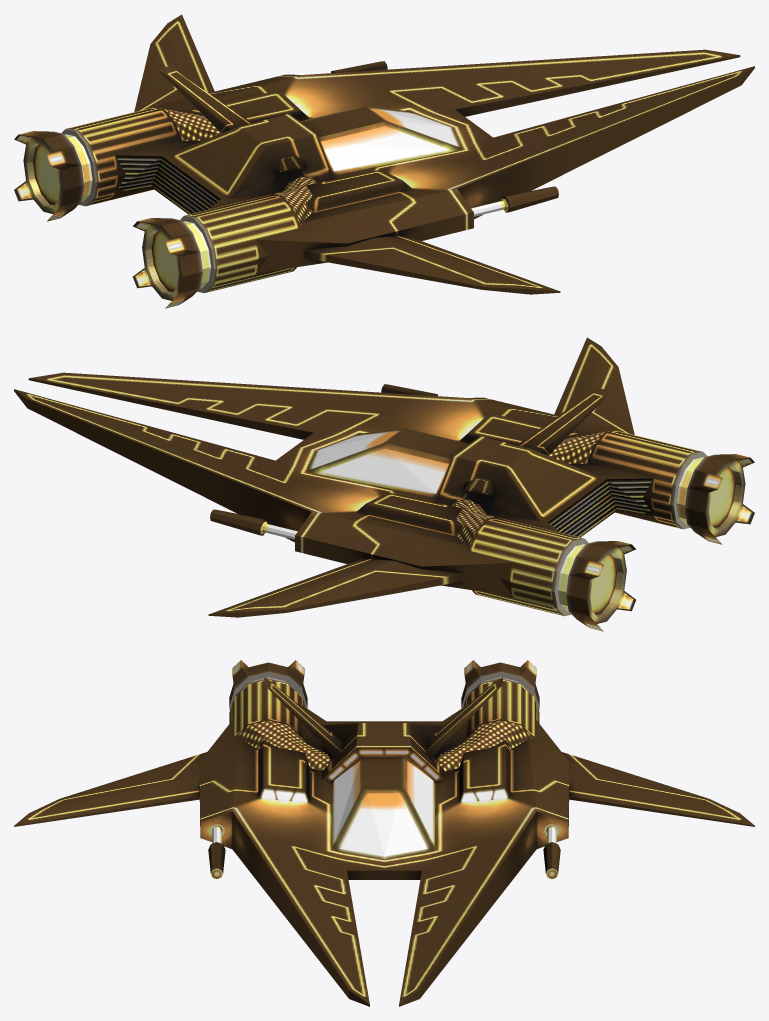
File: fighter1.obj
3 renders of one model, top to bottom at view 1: azimuth 30°, elevation 25°; view 2: azimuth 150°, elevation 25°; view 3: azimuth 270°, elevation 25°, orthographic. The views are drawn at different scales.
Parts seen in each view (by area): view 1: ship; view 2: ship; view 3: ship.
Part boxes in pixels (x1,y1,x2,y2): ship: [14, 14, 754, 308]; ship: [14, 337, 754, 631]; ship: [14, 660, 754, 1006].
Size of the model in its own units: 49.14 by 8.13 by 49.14.
Materials: 1 (1 with a texture image).
